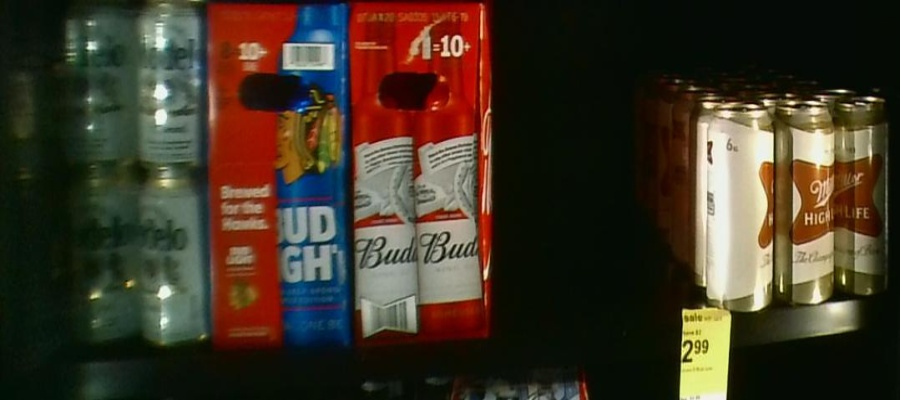bottle: (58, 2, 210, 347), (207, 3, 349, 344), (351, 2, 493, 341), (709, 106, 885, 310)
